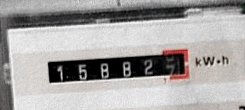1: (54, 62, 65, 81)
2: (142, 57, 154, 75)
5: (76, 62, 88, 80)
7: (164, 63, 176, 74)
8: (97, 60, 110, 78), (120, 59, 132, 77)
screen: (39, 44, 195, 91)
